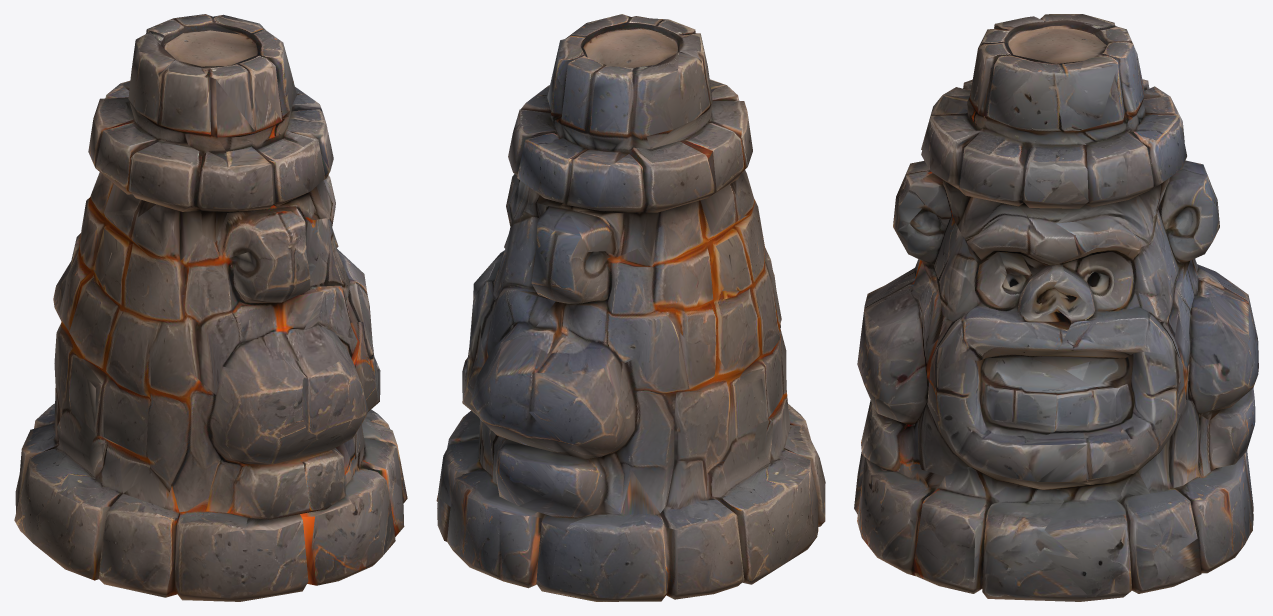
Rendered from totem-lod.glb.
3 views of the same model, side by side, from view 1: azimuth 30°, elevation 25°; view 2: azimuth 150°, elevation 25°; view 3: azimuth 270°, elevation 25° (orthographic).
Parts seen in each view (by area): view 1: tripo_node_37567999-b5a1-4405-9846-e478477ad5fc; view 2: tripo_node_37567999-b5a1-4405-9846-e478477ad5fc; view 3: tripo_node_37567999-b5a1-4405-9846-e478477ad5fc.
Part boxes in pixels (left/top/right/bottom): tripo_node_37567999-b5a1-4405-9846-e478477ad5fc: left=14, top=14, right=407, bottom=601; tripo_node_37567999-b5a1-4405-9846-e478477ad5fc: left=436, top=14, right=825, bottom=601; tripo_node_37567999-b5a1-4405-9846-e478477ad5fc: left=854, top=14, right=1258, bottom=601.
Size of the model in its own units: 0.6778 by 1 by 0.7066.
1 material, 1 textured.
